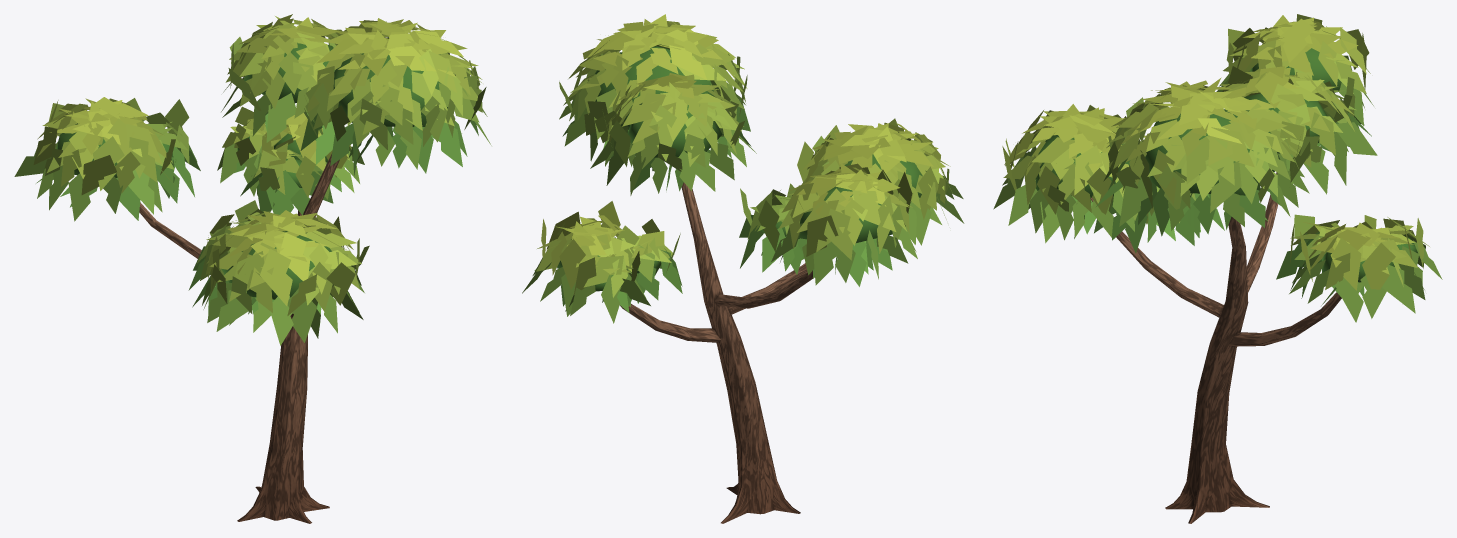
File: tree_2.glb
3 renders of one model, left to right at view 1: azimuth 30°, elevation 25°; view 2: azimuth 150°, elevation 25°; view 3: azimuth 270°, elevation 25°, orthographic. The views are drawn at different scales.
Parts seen in each view (by area): view 1: tree_2; view 2: tree_2; view 3: tree_2.
Boxes of the visible parts, x1,y1,x2,y2 form: tree_2: (14,14,491,523); tree_2: (522,14,964,523); tree_2: (993,14,1442,523).
Size of the model in its own units: 5.5 by 6.2 by 5.4.
Materials: 2 (2 with a texture image).
